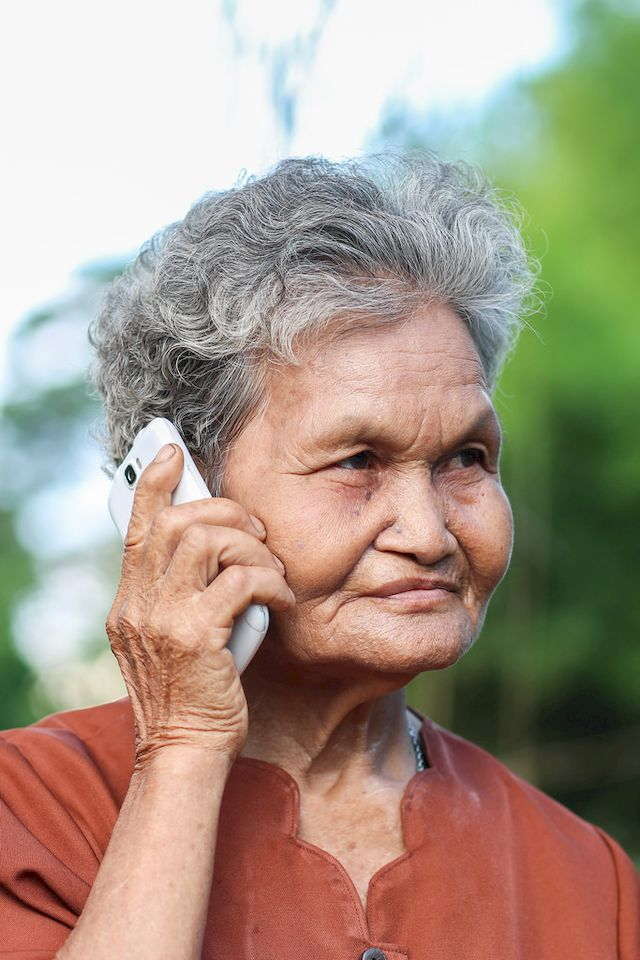phone: (100, 415, 274, 650)
talk: (98, 388, 511, 738)
